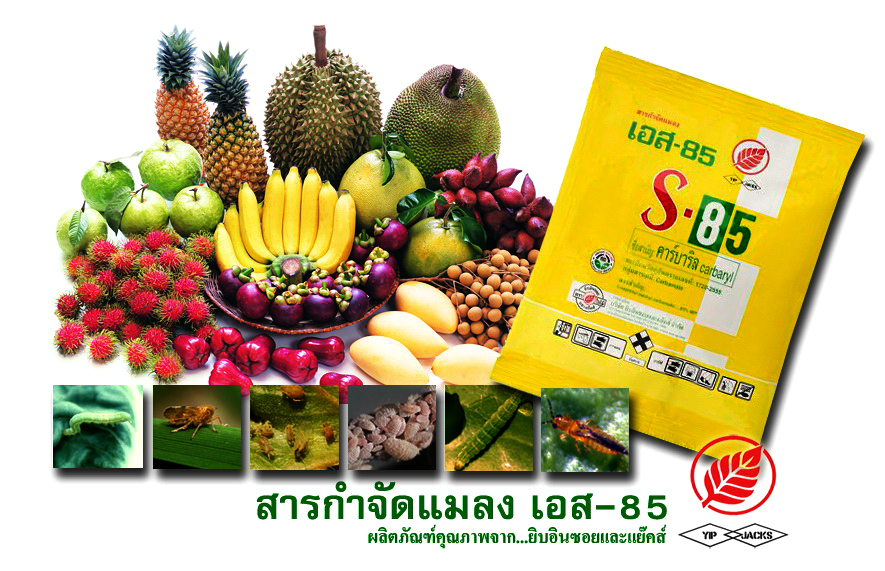Insecticide: (488, 38, 869, 482)
